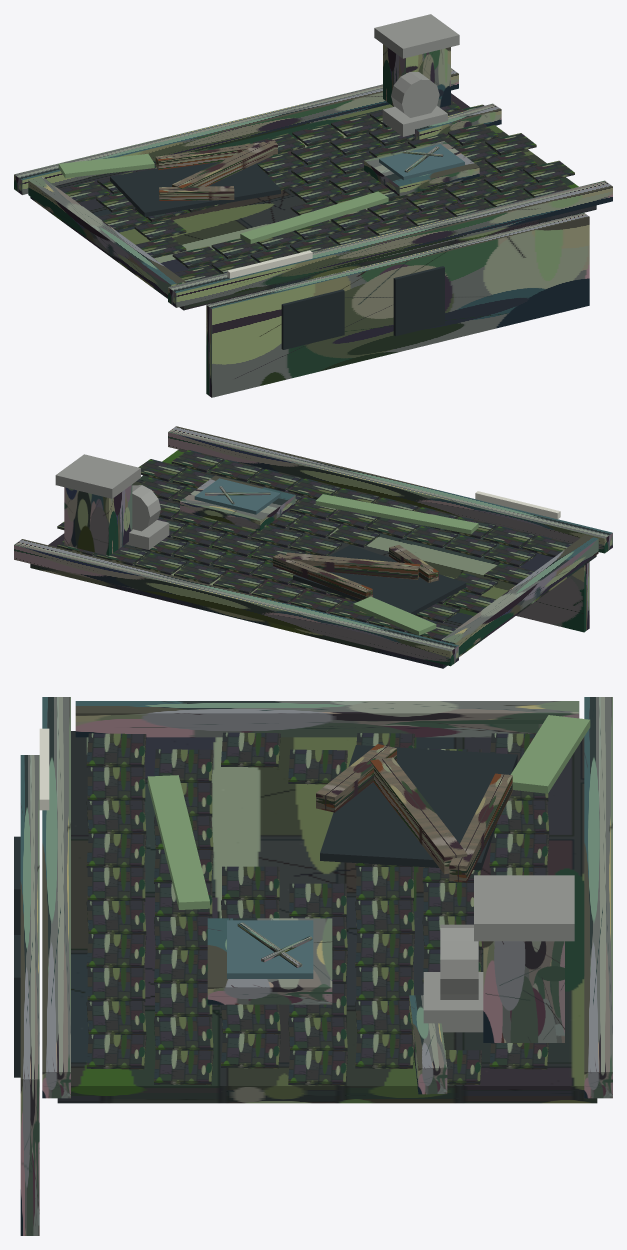
The model's file is flooded_roof_modern_v01.fbx.
3 renders of one model, top to bottom at view 1: azimuth 30°, elevation 25°; view 2: azimuth 150°, elevation 25°; view 3: azimuth 270°, elevation 25°, orthographic. The views are drawn at different scales.
Visible parts, largest first — view 1: submerged front wall hint, main flat flooded roof slab, raised front concrete lip, raised back concrete lip, jagged black roof breach, raised left concrete lip, dark broken doorway, dark broken window row, chimney cap, chimney block, square skylight frame, long algae streak (+34 smaller); view 2: raised back concrete lip, raised front concrete lip, main flat flooded roof slab, raised left concrete lip, chimney block, jagged black roof breach, submerged front wall hint, chimney cap, square skylight frame, long algae streak, collapsed board across breach, dark skylight glass inset (+48 smaller); view 3: main flat flooded roof slab, raised left concrete lip, jagged black roof breach, raised back concrete lip, raised front concrete lip, submerged front wall hint, chimney block, chimney cap, square skylight frame, long algae streak, dark skylight glass inset, collapsed board across breach (+52 smaller).
Boxes of the visible parts, <box> form: submerged front wall hint: <box>206,213,589,397</box>; main flat flooded roof slab: <box>30,93,596,310</box>; raised front concrete lip: <box>168,180,612,307</box>; raised back concrete lip: <box>14,68,458,194</box>; jagged black roof breach: <box>110,162,280,216</box>; raised left concrete lip: <box>28,176,185,296</box>; dark broken doorway: <box>393,266,444,336</box>; dark broken window row: <box>281,289,344,349</box>; chimney cap: <box>374,14,459,58</box>; chimney block: <box>383,44,450,107</box>; square skylight frame: <box>364,141,479,196</box>; long algae streak: <box>240,191,388,243</box>; raised back concrete lip: <box>14,539,458,666</box>; raised front concrete lip: <box>168,426,612,553</box>; main flat flooded roof slab: <box>30,448,596,668</box>; raised left concrete lip: <box>441,535,598,655</box>; chimney block: <box>64,484,132,555</box>; jagged black roof breach: <box>293,544,466,614</box>; submerged front wall hint: <box>516,562,589,632</box>; chimney cap: <box>55,454,140,498</box>; square skylight frame: <box>180,475,295,530</box>; long algae streak: <box>315,494,478,534</box>; collapsed board across breach: <box>284,552,420,579</box>; dark skylight glass inset: <box>194,478,280,514</box>; main flat flooded roof slab: <box>57,731,597,1103</box>; raised left concrete lip: <box>75,701,579,737</box>; jagged black roof breach: <box>320,745,517,870</box>; raised back concrete lip: <box>584,697,612,1098</box>; raised front concrete lip: <box>42,697,70,1098</box>; submerged front wall hint: <box>20,755,39,1235</box>; chimney block: <box>483,941,564,1042</box>; chimney cap: <box>474,875,574,941</box>; square skylight frame: <box>207,918,332,1004</box>; long algae streak: <box>147,775,209,909</box>; dark skylight glass inset: <box>227,920,313,978</box>; collapsed board across breach: <box>370,757,467,874</box>.
Size of the model in its own units: 370 by 143 by 250.
